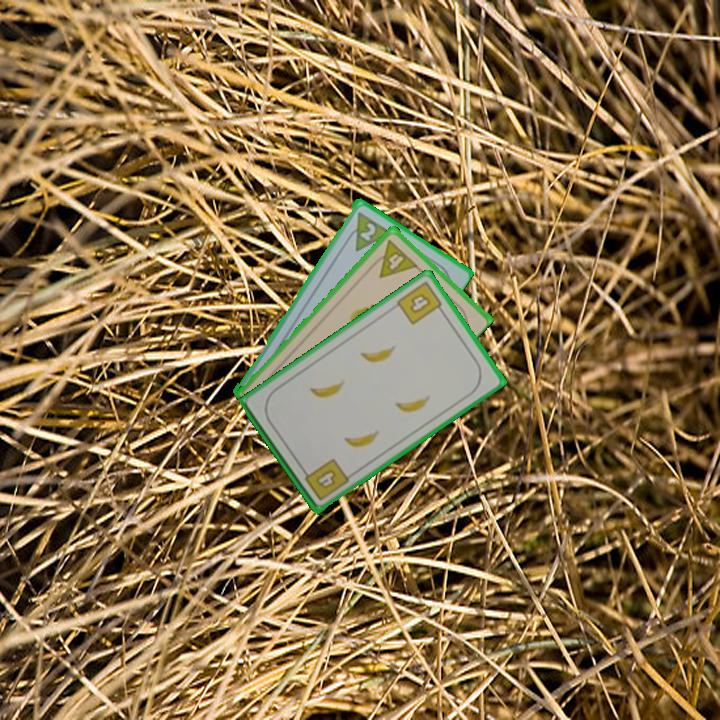2p: (341, 208, 393, 254)
4b: (393, 277, 447, 327), (298, 455, 352, 504)
4p: (367, 235, 420, 280)
